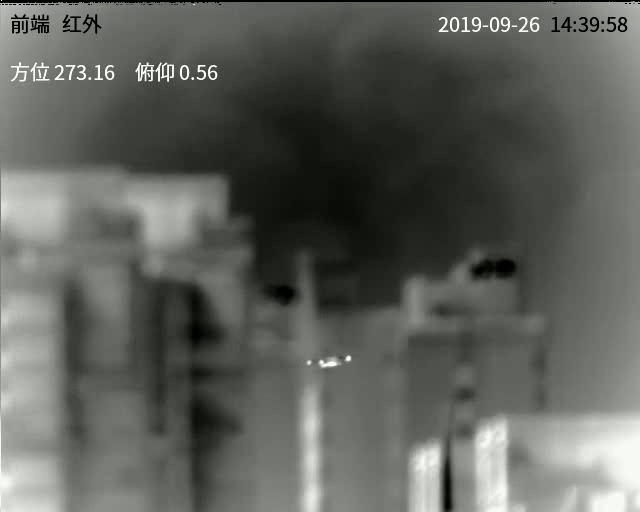DRONE: (305, 355, 354, 370)
